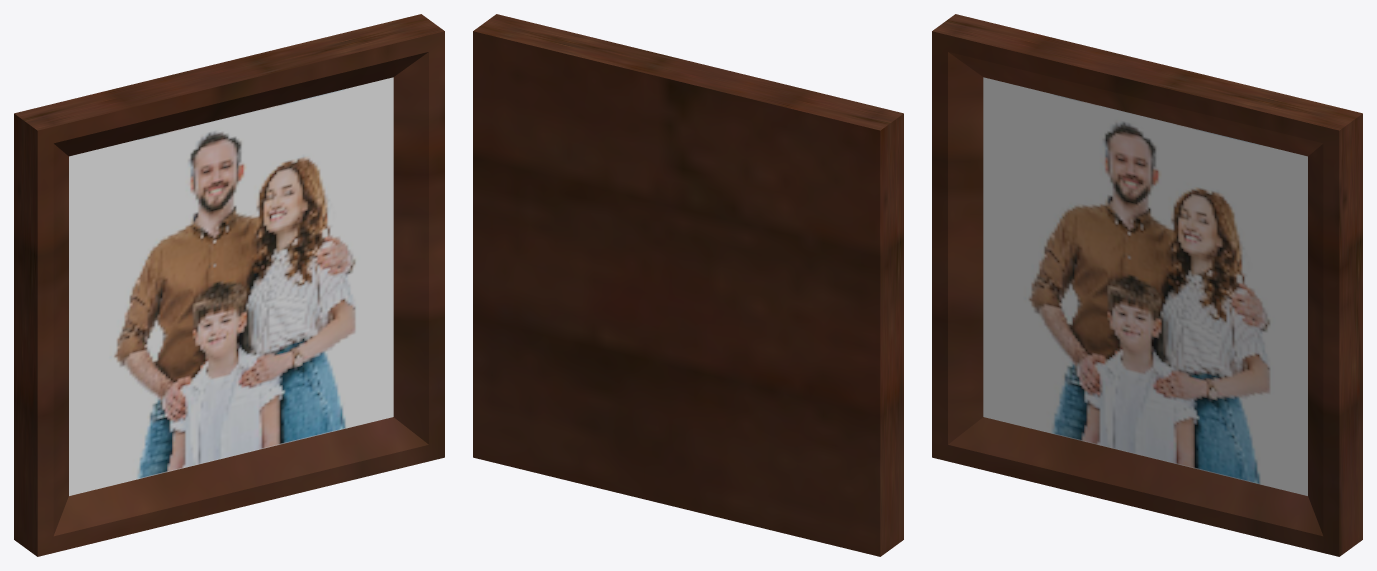
File: photo-1.fbx
3 views of the same model, side by side, from view 1: azimuth 30°, elevation 25°; view 2: azimuth 150°, elevation 25°; view 3: azimuth 330°, elevation 25° (orthographic).
Parts seen in each view (by area): view 1: Cube.029; view 2: Cube.029; view 3: Cube.029.
Part boxes in pixels (box(x1,y1,x2,y2)): Cube.029: box(14, 14, 444, 556); Cube.029: box(473, 14, 903, 556); Cube.029: box(932, 14, 1362, 556).
Size of the model in its own units: 100 by 100 by 10.
